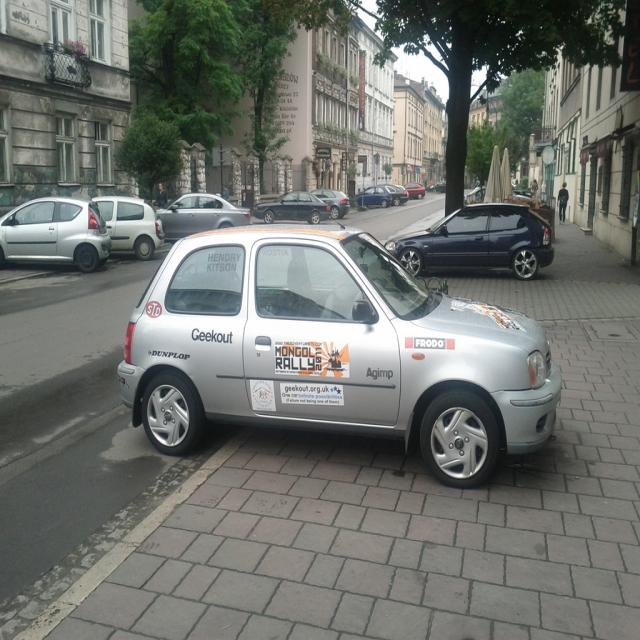car: (114, 220, 544, 478)
